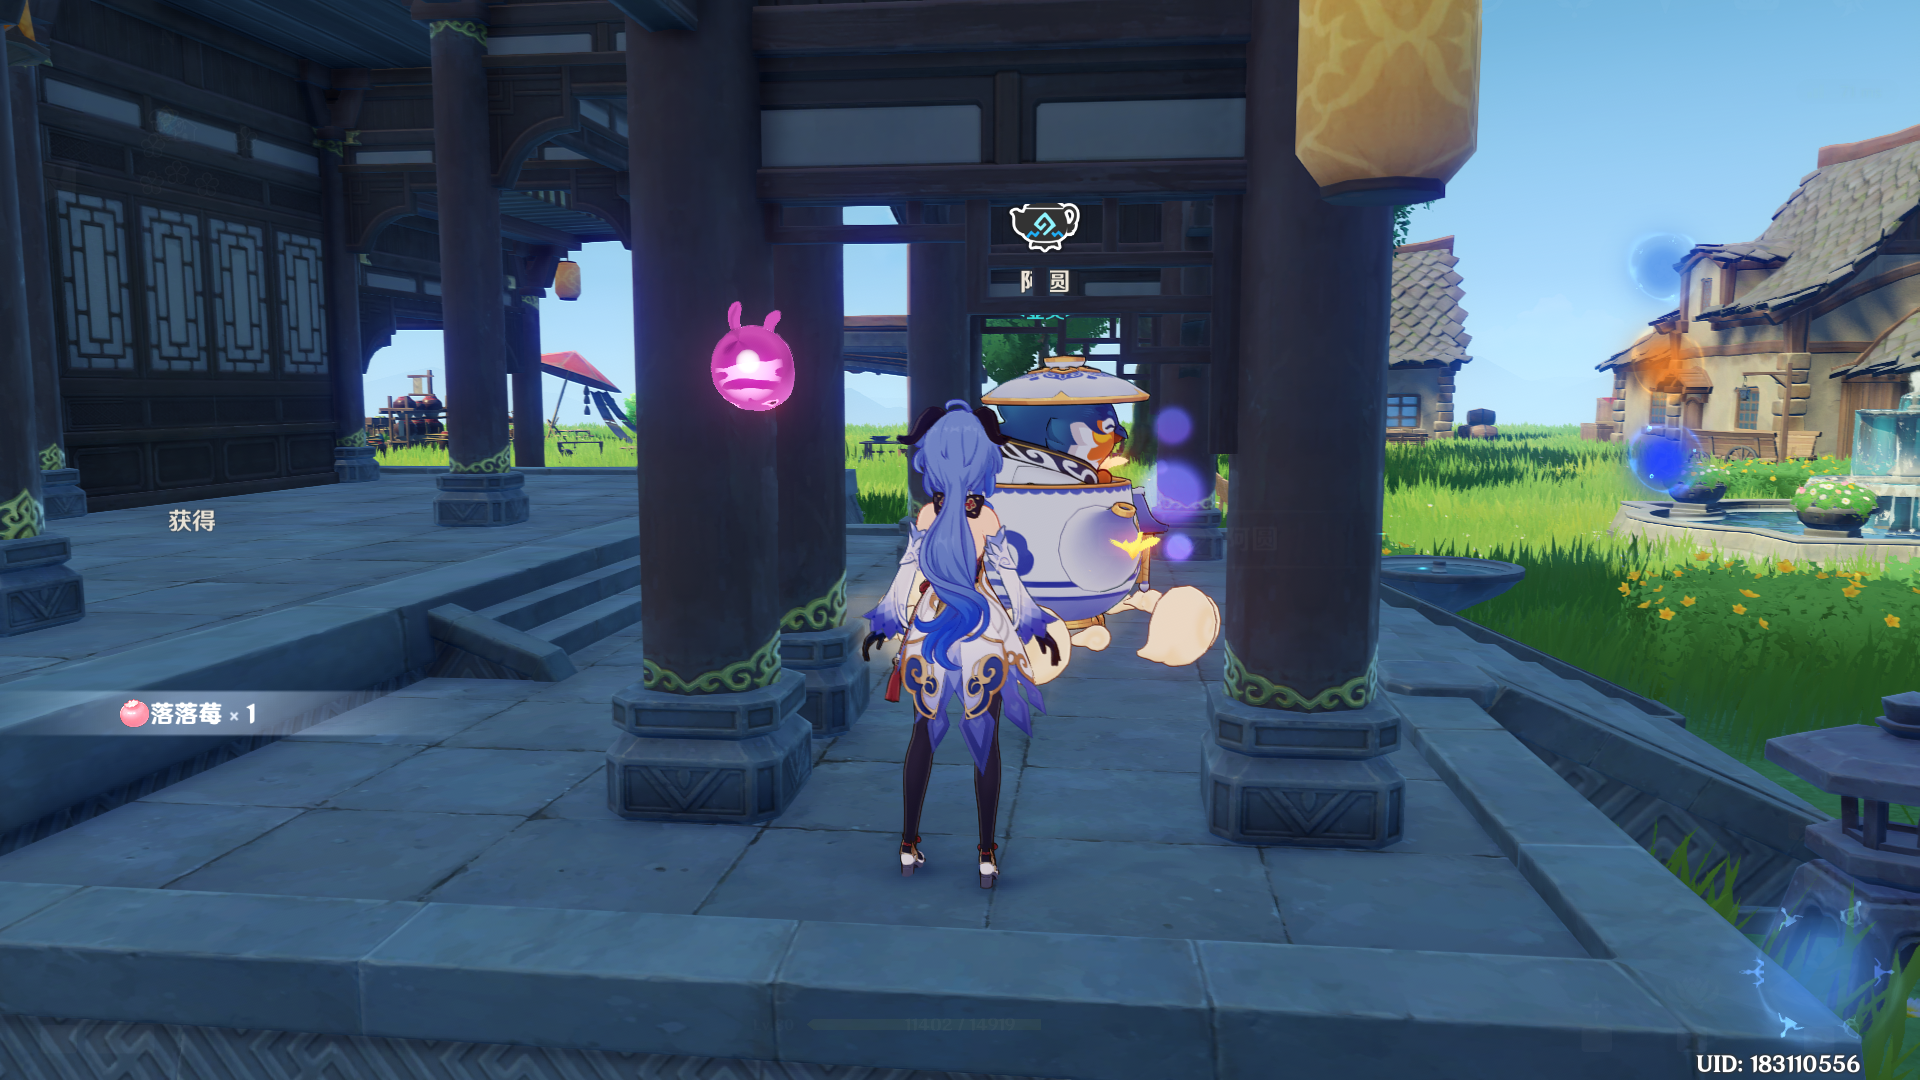character: (833, 396, 1080, 895)
